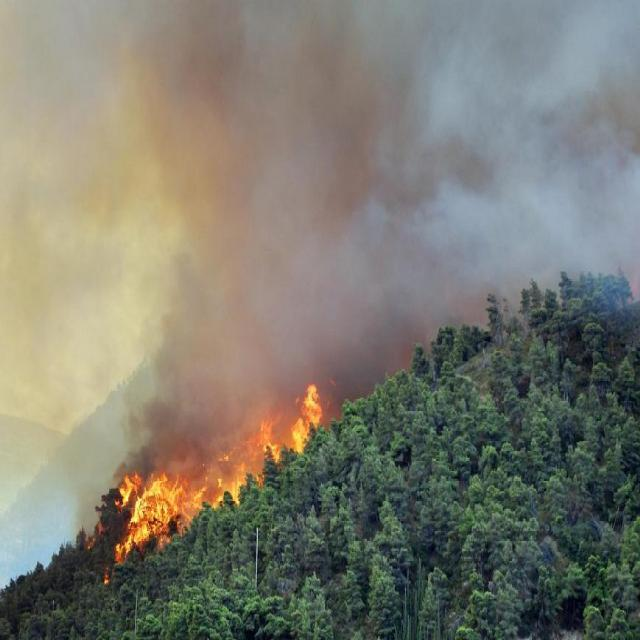Fire: (82, 365, 336, 601)
